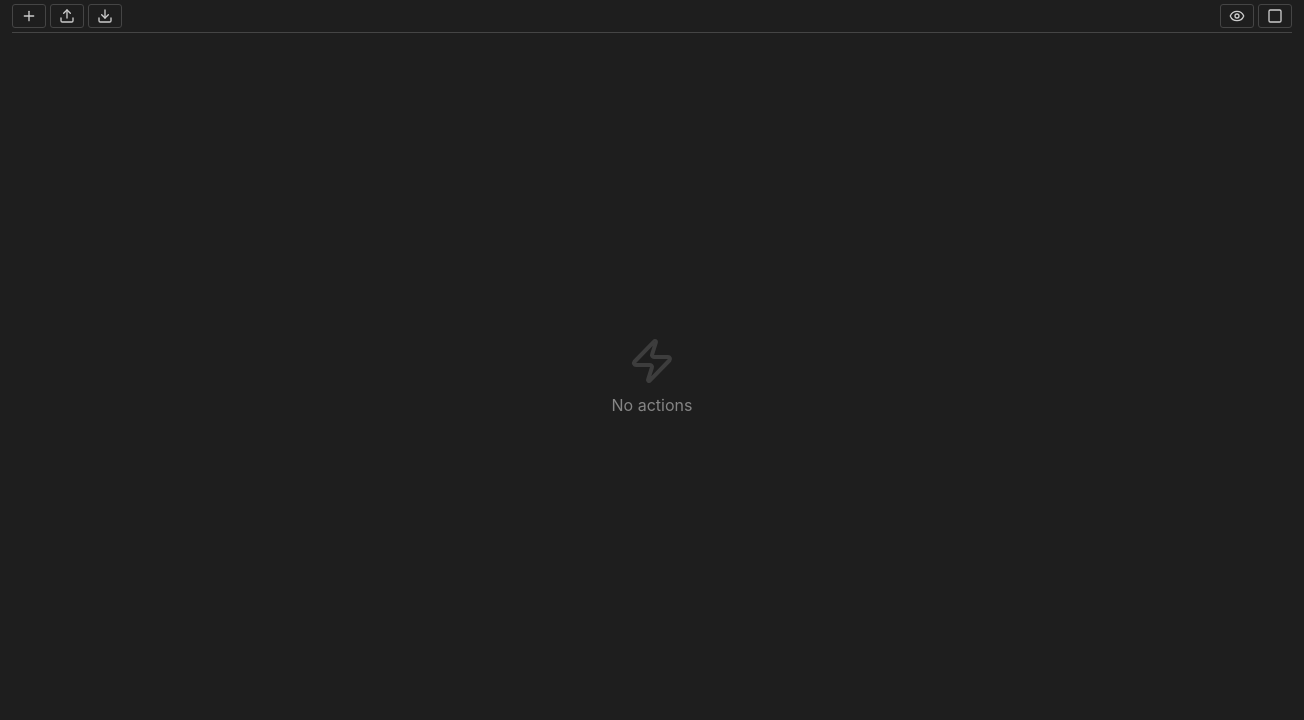
ActionManager Component › should create an action through the form
This screenshot has width=1304, height=720.
Click the button titled "Add Action": (29, 16) left=12, top=4, right=46, bottom=28
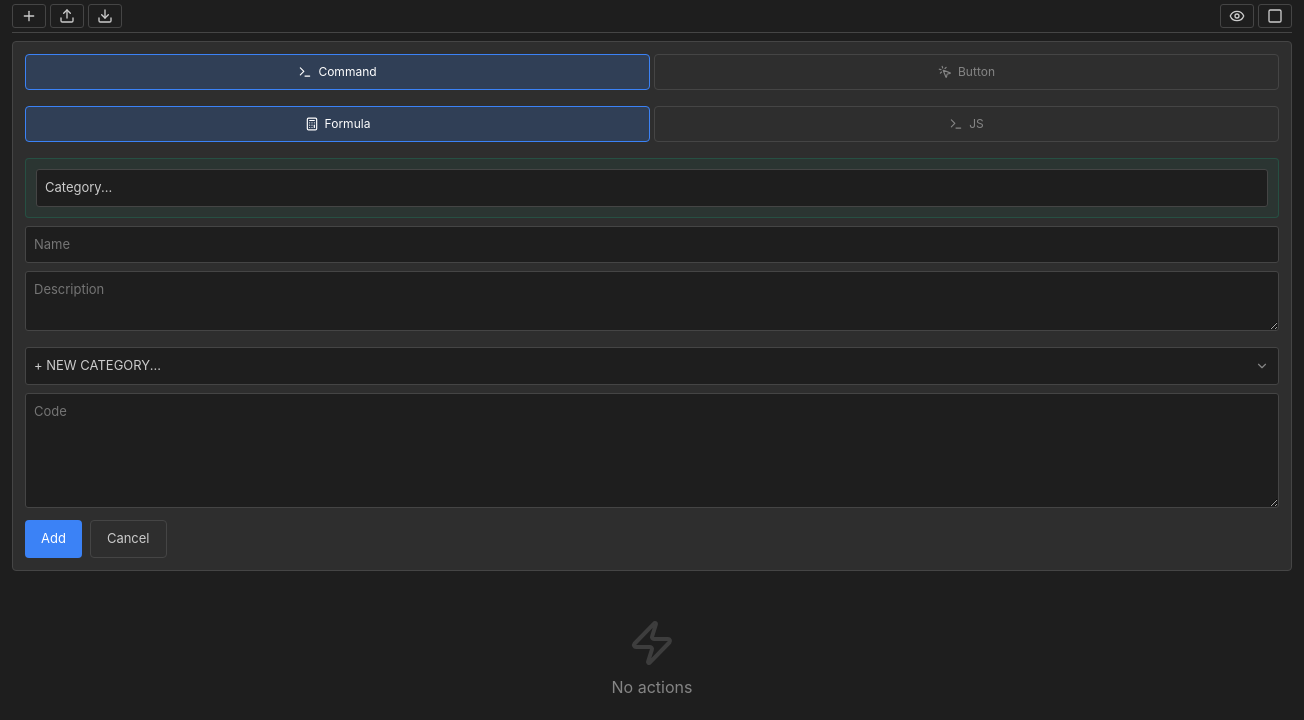
In the field with placeholder "Name": (652, 244) left=25, top=226, right=1279, bottom=263, type "Uppercase Selection"
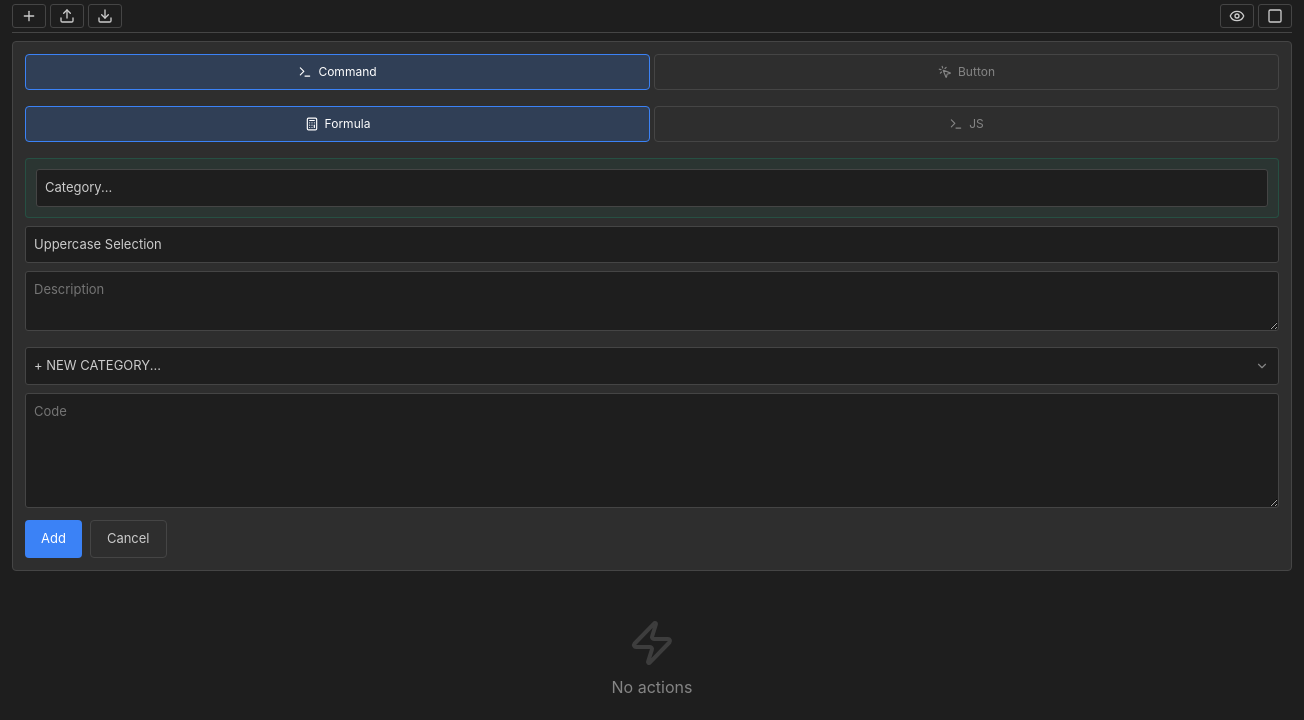
In the text box with placeholder "Code": (652, 450) left=25, top=392, right=1279, bottom=508, type "UPPER(selection)"
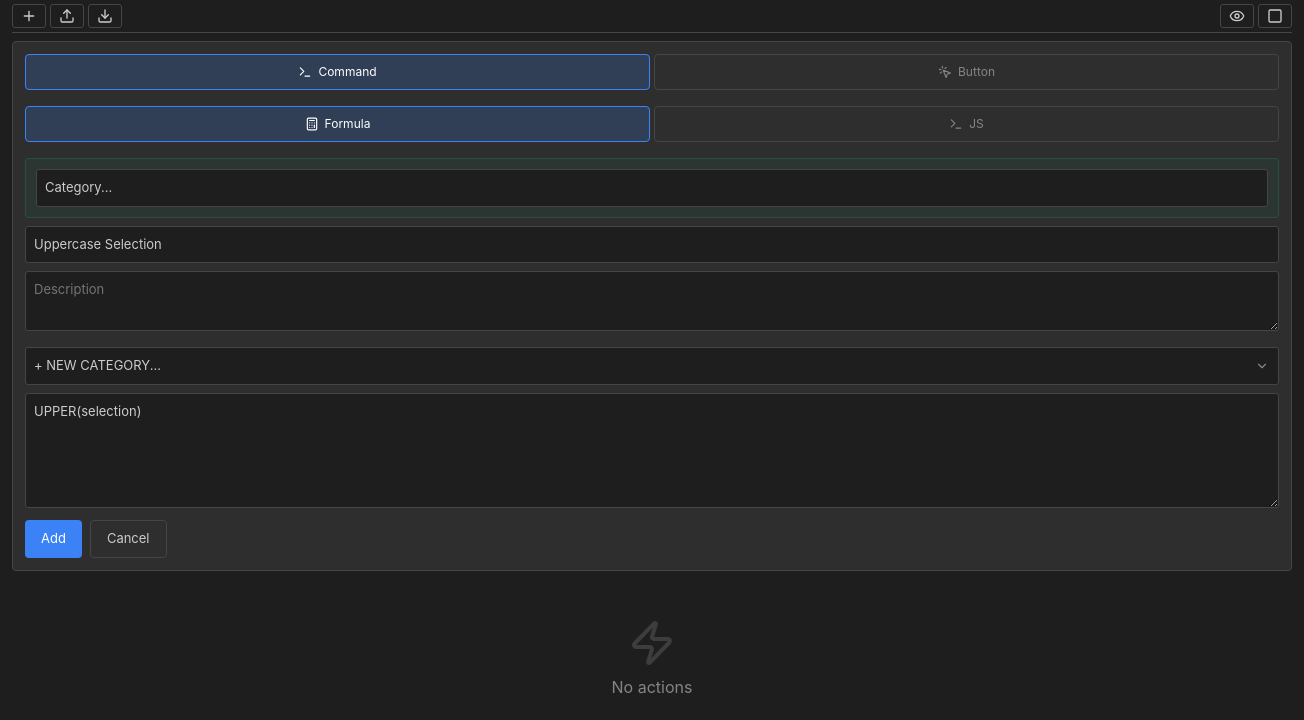
Click the button "Add": (53, 539) left=25, top=520, right=82, bottom=558
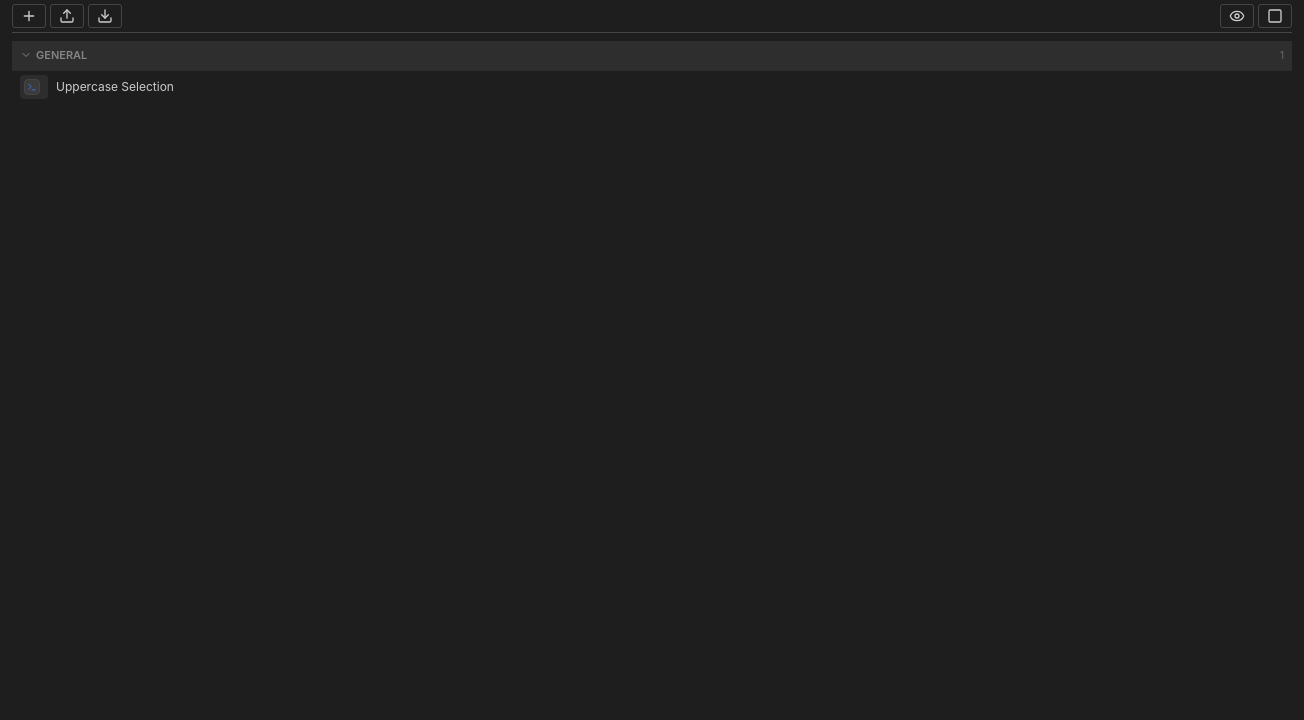
Expected: the text "Uppercase Selection" is shown, left=56, top=78, right=174, bottom=94
